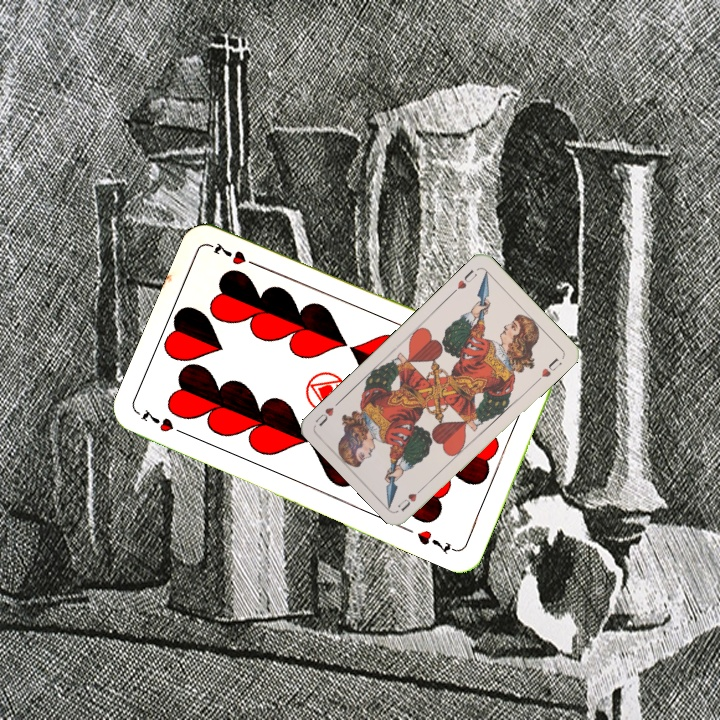H7: (135, 404, 191, 439)
HU: (393, 482, 428, 514), (448, 265, 480, 296)
